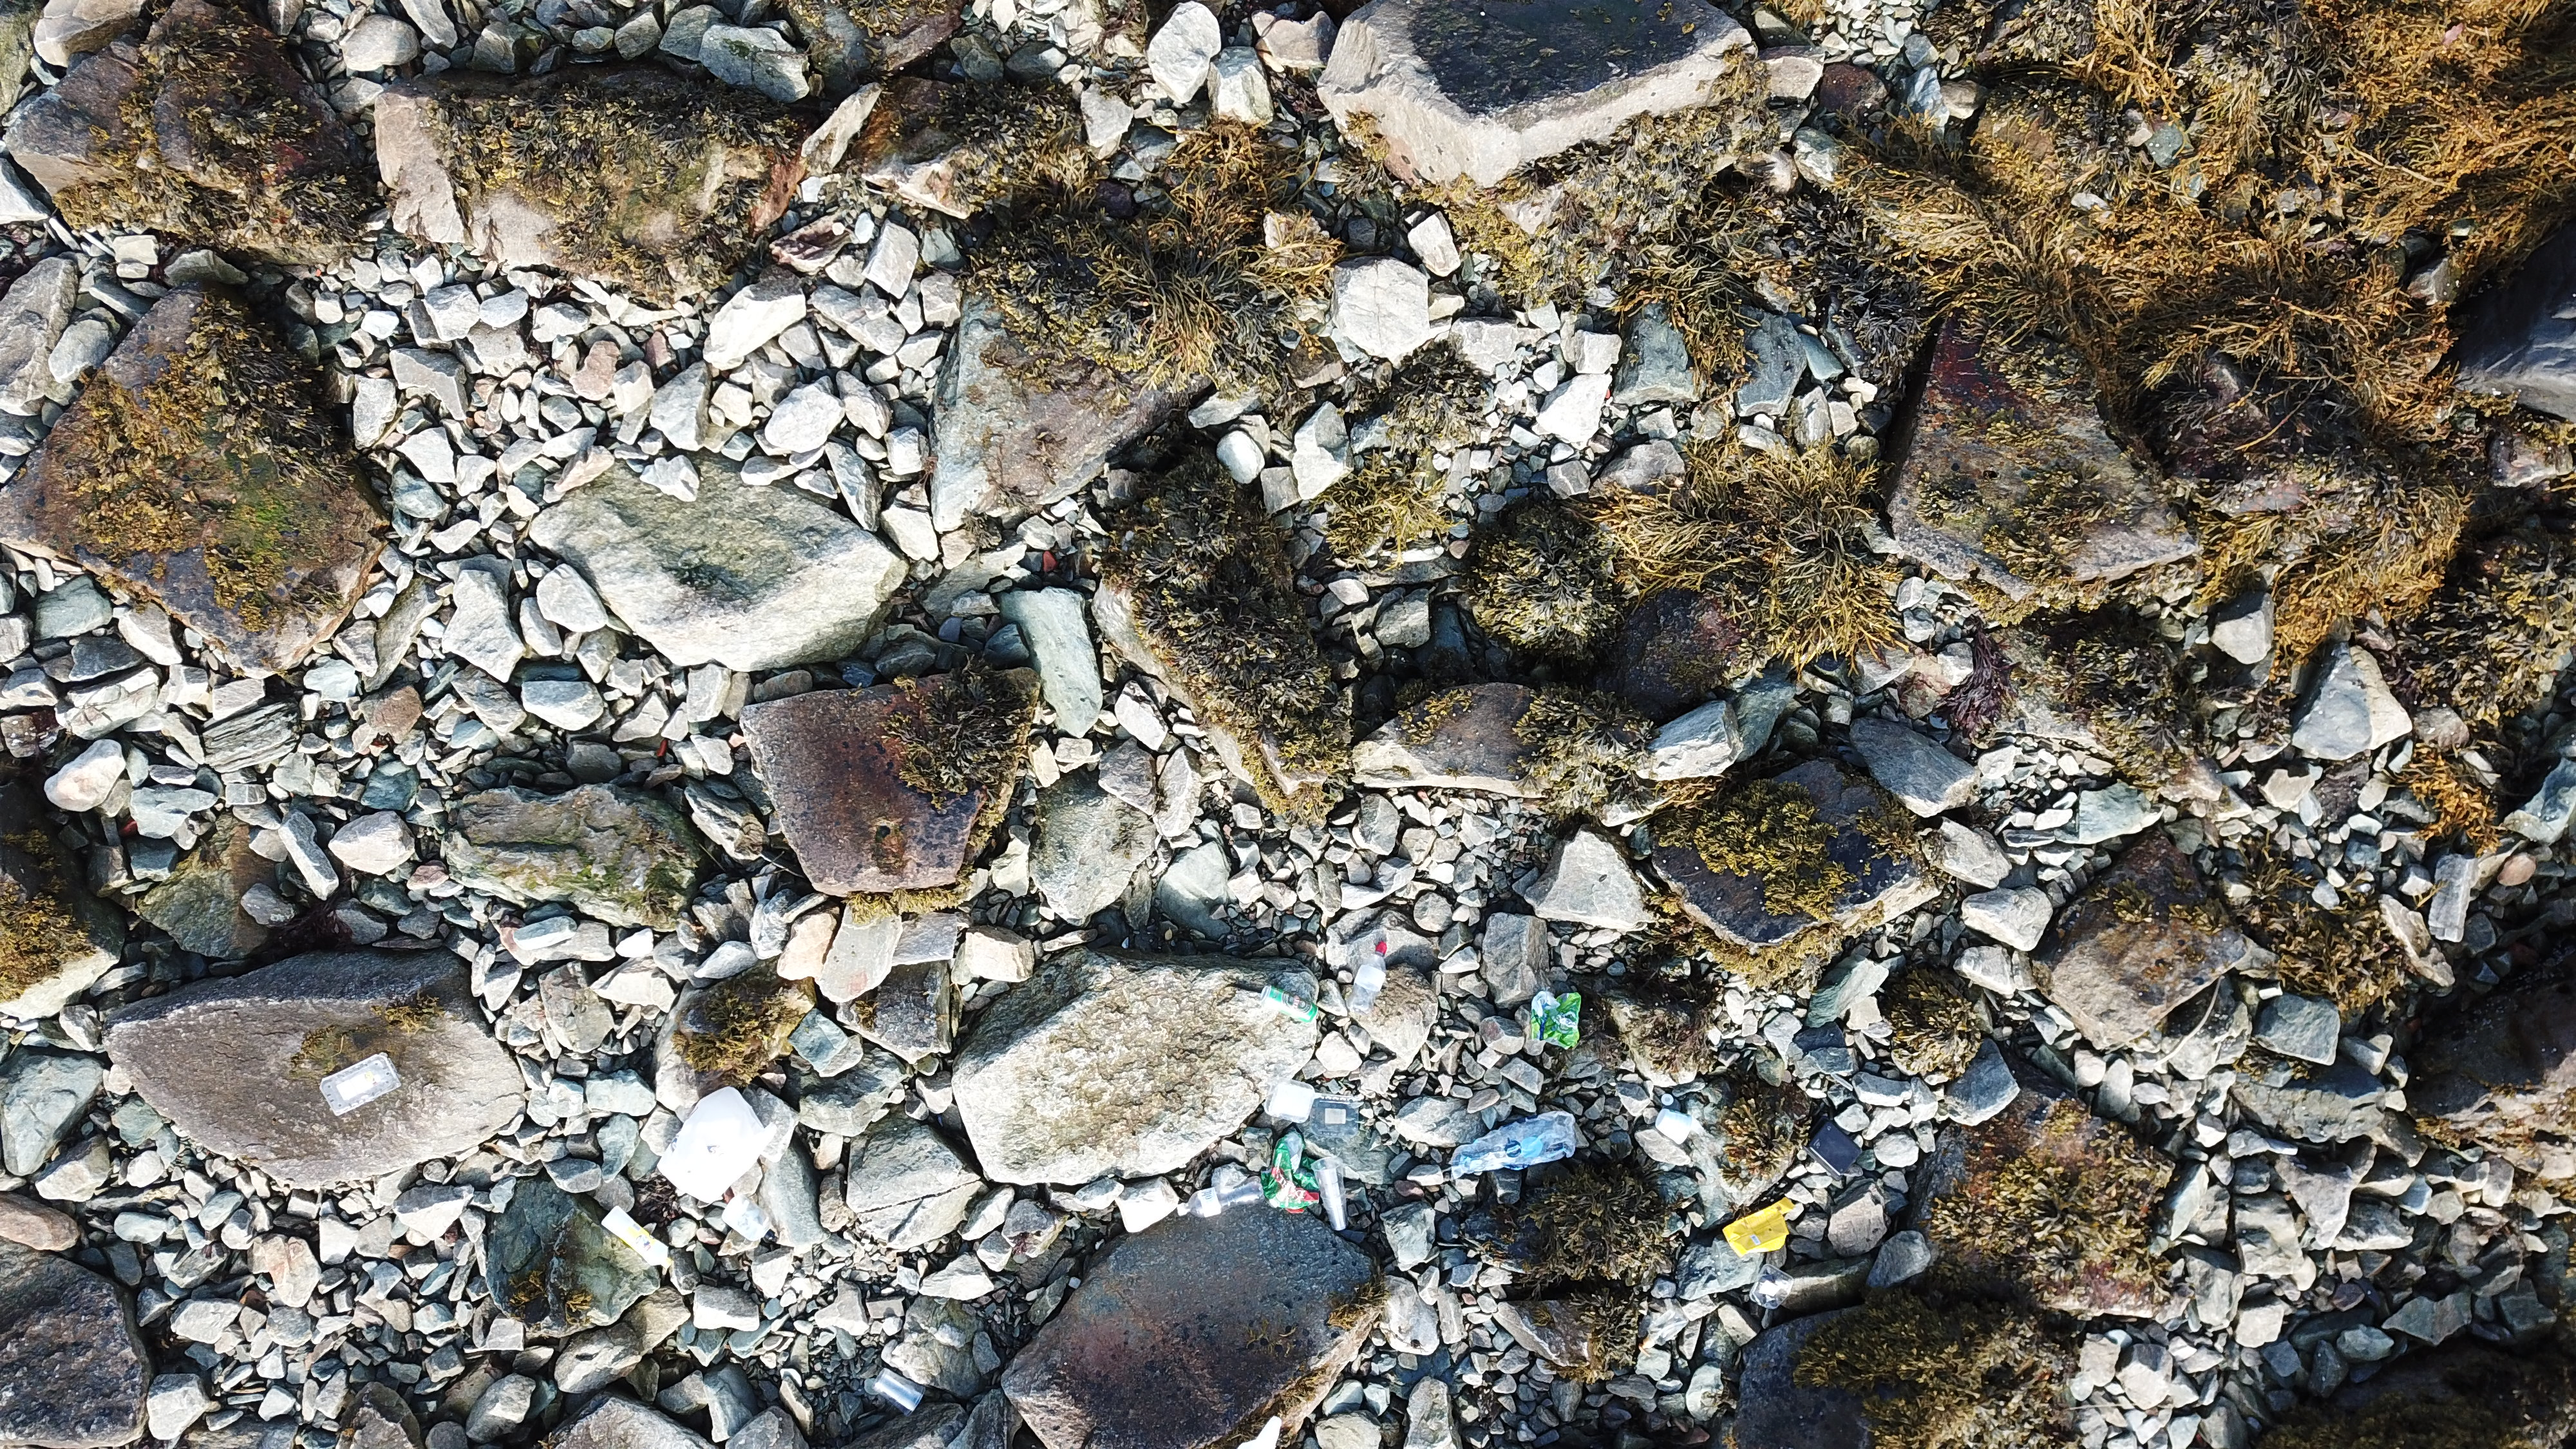Can: (1258, 985, 1323, 1024)
Plastic: (660, 1085, 771, 1207), (1454, 1111, 1576, 1175), (320, 1051, 403, 1116), (600, 1207, 678, 1270), (1173, 1173, 1269, 1219), (1267, 1132, 1318, 1217), (1721, 1200, 1796, 1256), (1527, 987, 1589, 1051), (1315, 1148, 1357, 1233), (725, 1192, 782, 1251), (1263, 1072, 1318, 1125), (870, 1366, 929, 1408), (1748, 1267, 1799, 1313), (1315, 1092, 1362, 1136)
PlasticBottle: (1346, 939, 1392, 1019)
